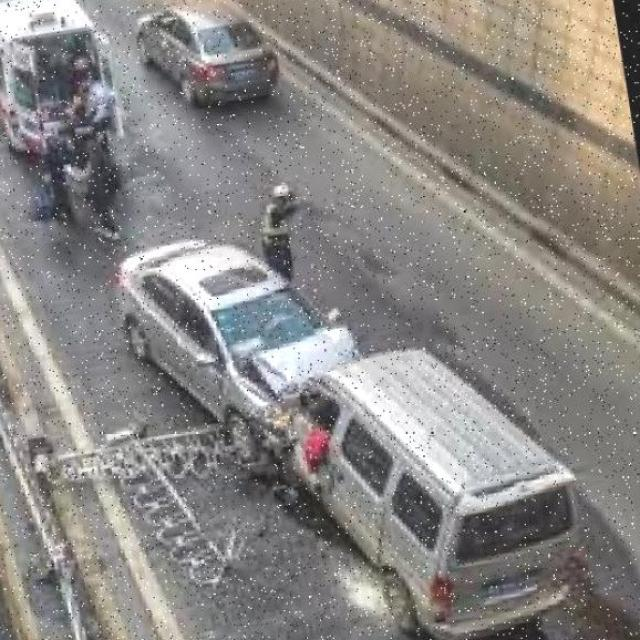accident: (168, 300, 440, 502)
